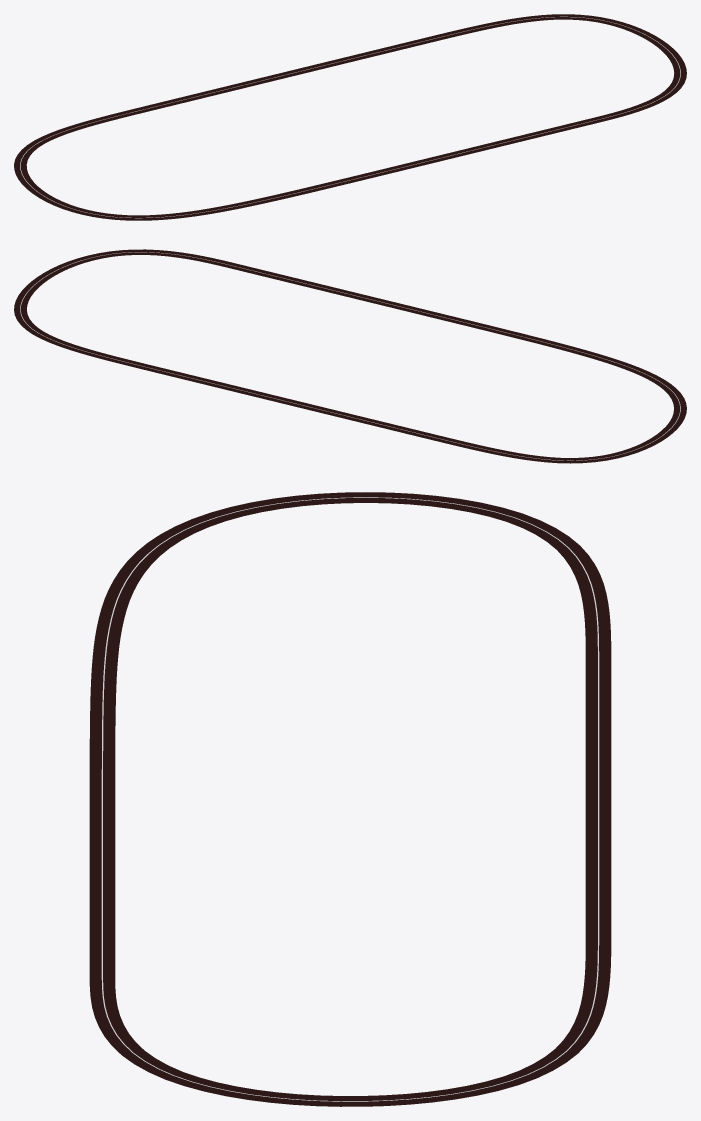
File: turnTrack.fbx
3 renders of one model, top to bottom at view 1: azimuth 30°, elevation 25°; view 2: azimuth 150°, elevation 25°; view 3: azimuth 270°, elevation 25°, orthographic. The views are drawn at different scales.
Parts seen in each view (by area): view 1: Plane; view 2: Plane; view 3: Plane.
Part boxes in pixels (box(x1,y1,x2,y2)): Plane: box(14, 14, 686, 220); Plane: box(14, 249, 686, 463); Plane: box(89, 492, 611, 1106).
Size of the model in its own units: 1759 by 0.000213 by 631.
